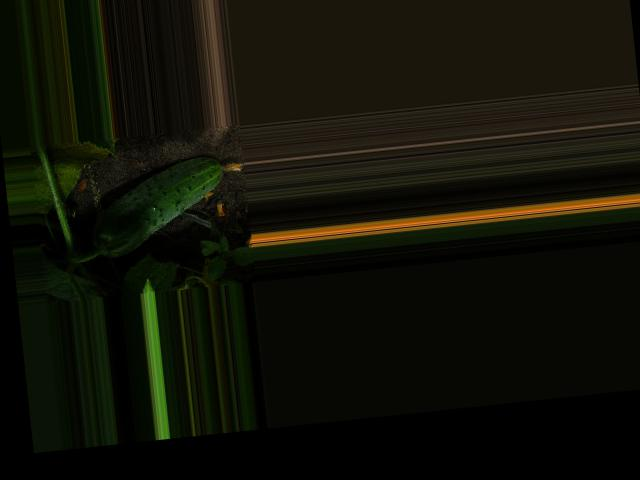cucumber: (85, 151, 251, 259)
